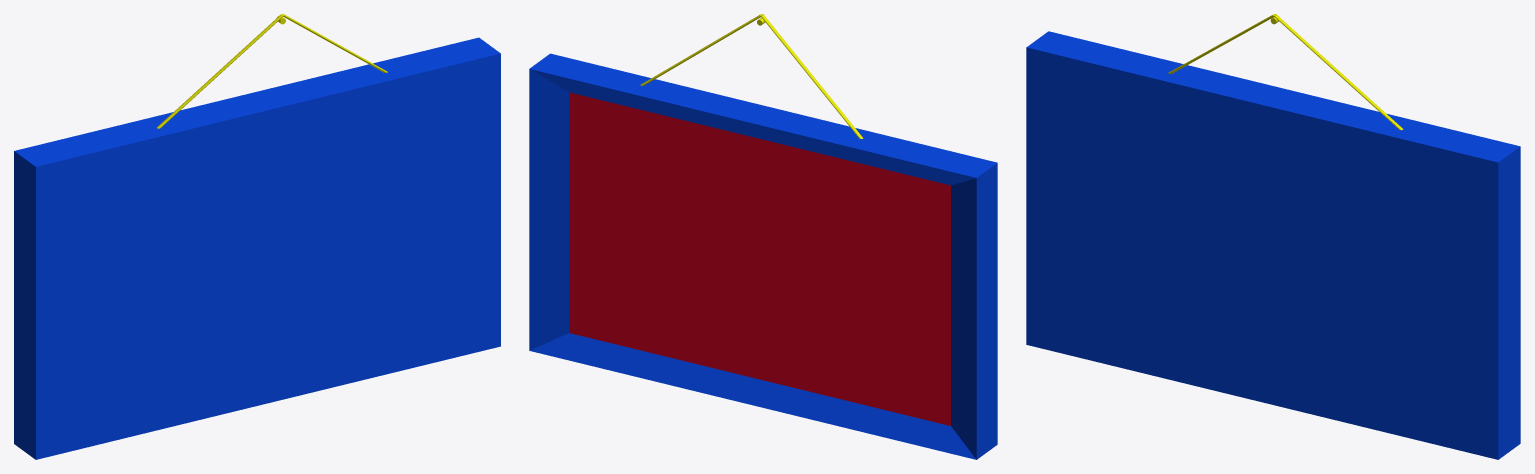
File: PictureFrame.fbx
3 views of the same model, side by side, from view 1: azimuth 30°, elevation 25°; view 2: azimuth 150°, elevation 25°; view 3: azimuth 330°, elevation 25° (orthographic). The views are drawn at different scales.
Visible parts, largest first — view 1: Cube.001; view 2: Cube.001; view 3: Cube.001.
Part boxes in pixels (x1,y1,x2,y2): Cube.001: (14,14,500,459); Cube.001: (529,14,997,459); Cube.001: (1026,14,1520,459).
Size of the model in its own units: 332 by 263 by 29.88.
